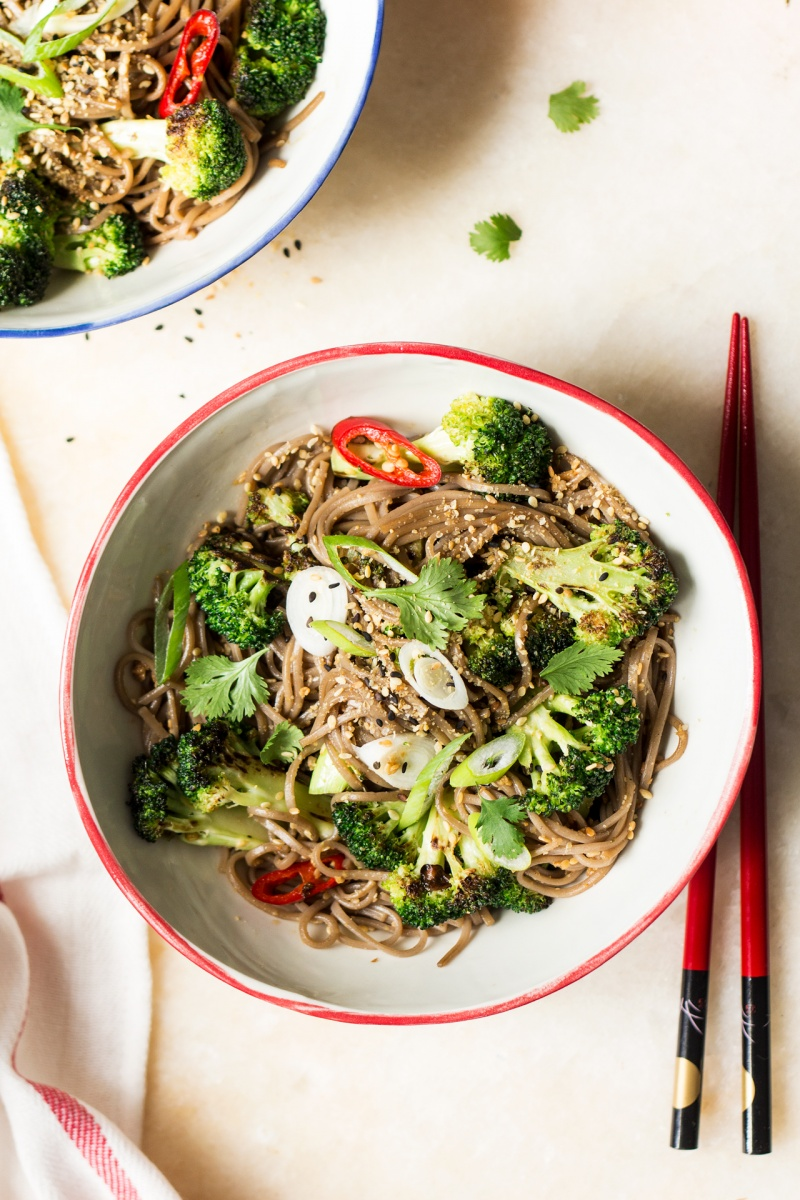Soba: (117, 404, 679, 981), (24, 1, 313, 309)
